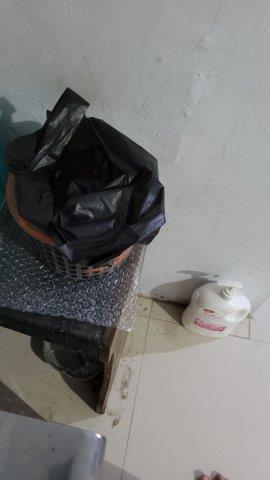plastik: (3, 88, 166, 262)
